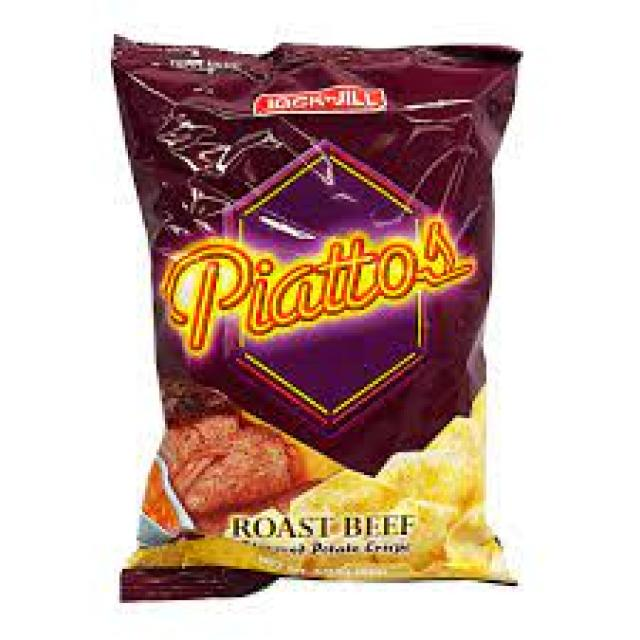junkfood wrapper: (115, 38, 517, 599)
